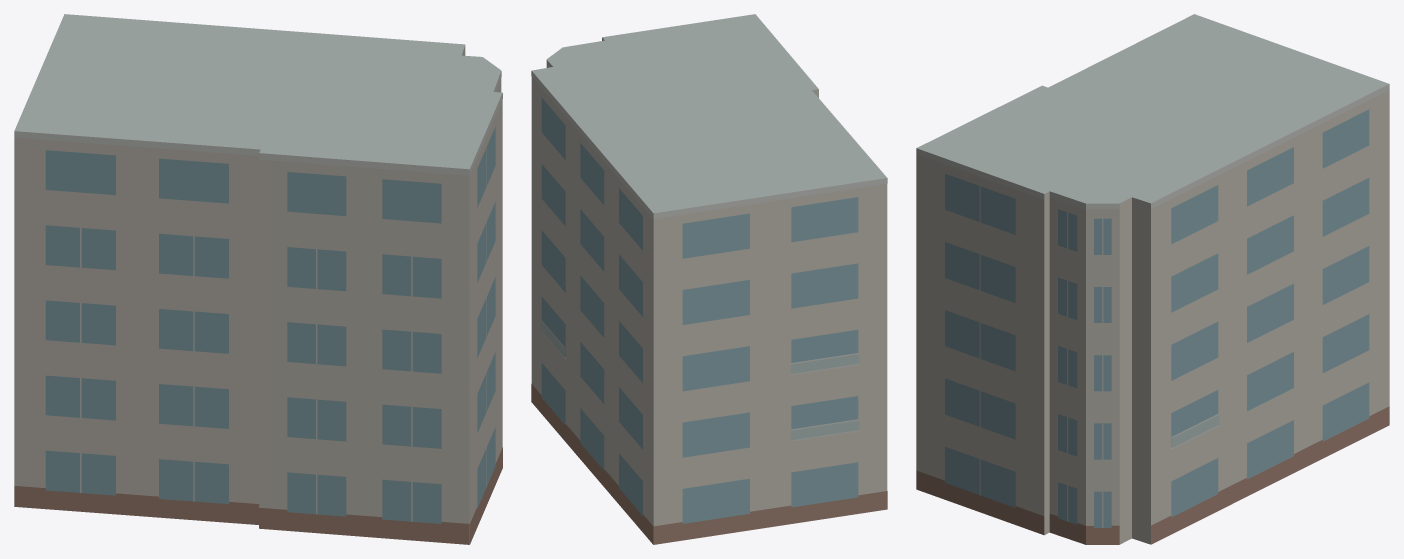
The model's file is survey-upis-32882329.glb.
3 renders of one model, left to right at view 1: azimuth 30°, elevation 25°; view 2: azimuth 150°, elevation 25°; view 3: azimuth 270°, elevation 25°, orthographic. The views are drawn at different scales.
Visible parts, largest first — view 1: survey-upis-32882329.tmp; view 2: survey-upis-32882329.tmp; view 3: survey-upis-32882329.tmp.
Part boxes in pixels (bbox=[...]): survey-upis-32882329.tmp: bbox=[14, 14, 502, 544]; survey-upis-32882329.tmp: bbox=[531, 14, 887, 544]; survey-upis-32882329.tmp: bbox=[916, 14, 1389, 544].
Bounding box in the file's own units: 16.93 × 14.2 × 17.85.
